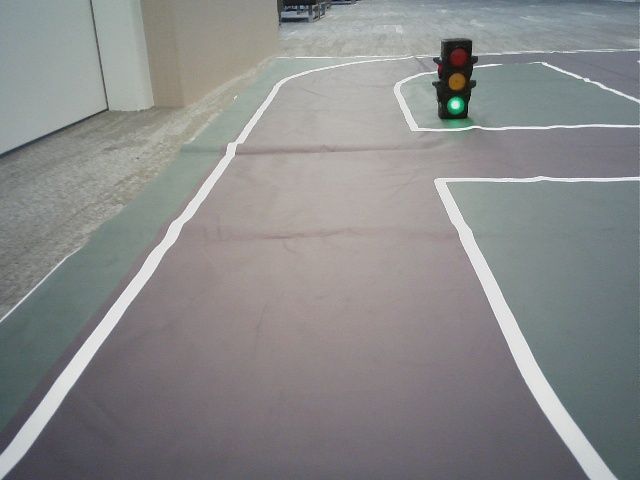green: (442, 44, 470, 117)
